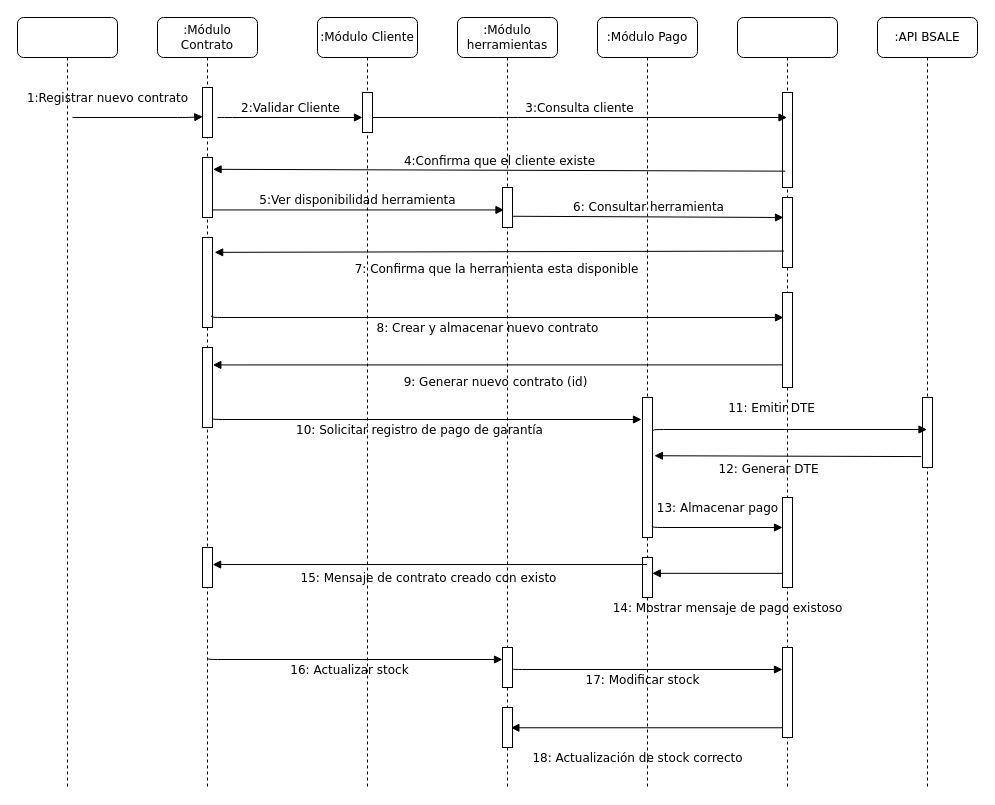
Image size: 995x805. Some labels were removed from this diagram. Each missing label, with the box of its shape:
:Base de Datos: (736, 16, 838, 788)
:Usuario: (16, 16, 118, 788)
